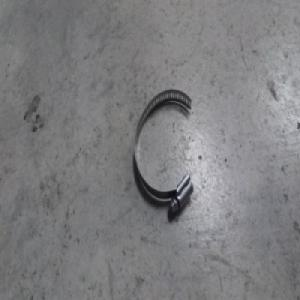AdjustableClamp: (131, 88, 195, 212)
